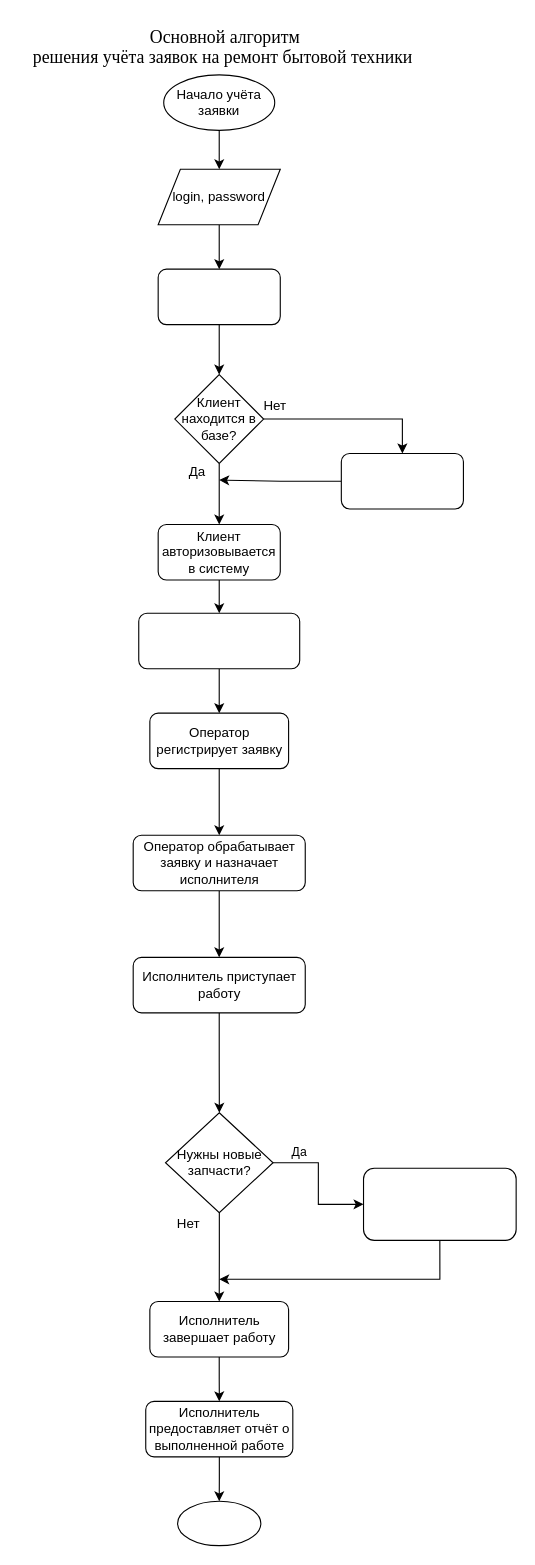
The diagram is 535 pixels wide and 1565 high, and some of its shapes have lost their labels. Each missing label, with the centre of its shape:
Админстратор проводит регистрацию: the point at 401,480
Дозаказ необходимых запчастей: the point at 439,1203
Клиент оставляет новую заявку, предоставляет информацию: the point at 219,640
Клиент хочет оставить заявку: the point at 218,296
Конец: the point at 218,1523
